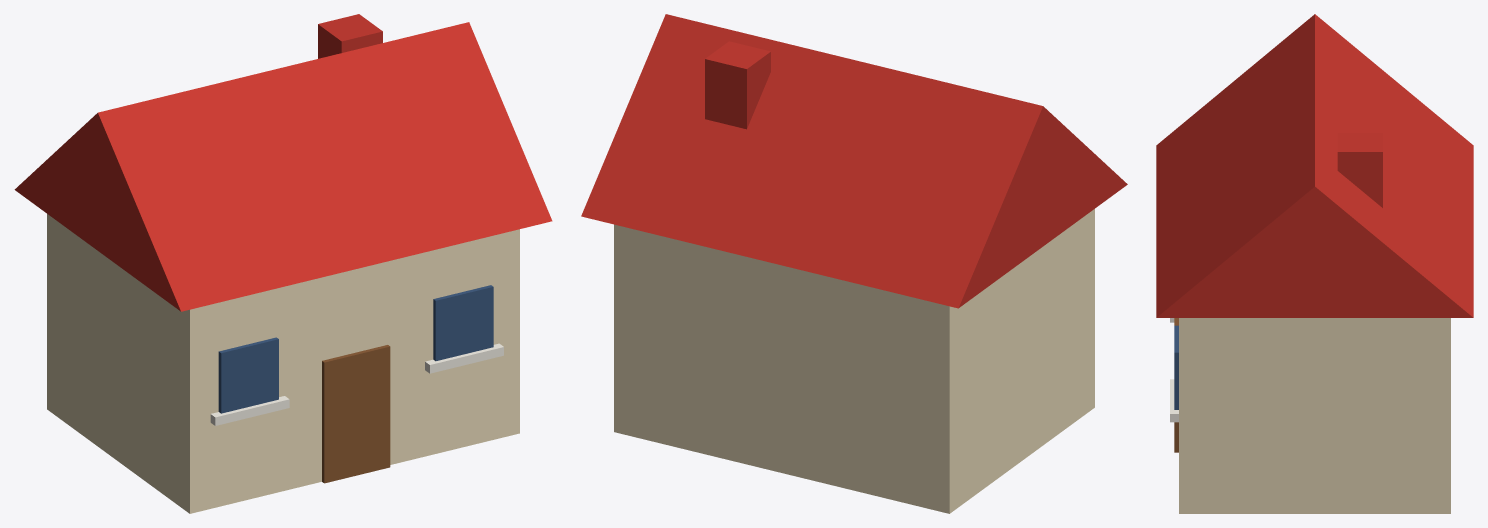
Rendered from cottage.glb.
3 renders of one model, left to right at view 1: azimuth 30°, elevation 25°; view 2: azimuth 150°, elevation 25°; view 3: azimuth 270°, elevation 25°, orthographic. The views are drawn at different scales.
Parts seen in each view (by area): view 1: red, cream, darkWood, glass, white; view 2: cream, red; view 3: red, cream, glass.
Boxes of the visible parts, x1=… form: red: x1=14, y1=14, x2=552, y2=311; cream: x1=47, y1=214, x2=519, y2=513; darkWood: x1=322, y1=345, x2=390, y2=483; glass: x1=218, y1=285, x2=493, y2=413; white: x1=210, y1=343, x2=503, y2=425; cream: x1=614, y1=209, x2=1094, y2=513; red: x1=581, y1=14, x2=1127, y2=308; red: x1=1156, y1=14, x2=1473, y2=317; cream: x1=1179, y1=318, x2=1450, y2=513; glass: x1=1174, y1=325, x2=1178, y2=409.
Bounding box in the file's own units: 90 × 82 × 70.
